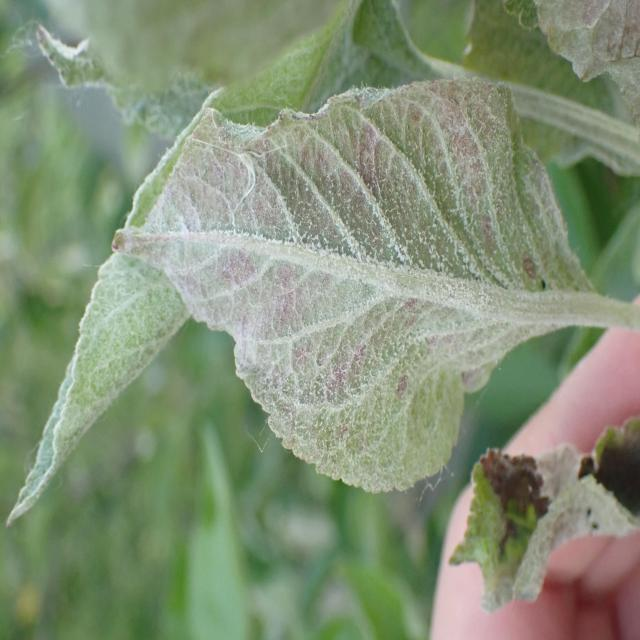Powdery_mildew: (91, 71, 578, 496), (22, 0, 640, 180), (446, 393, 640, 618), (519, 0, 640, 144)
